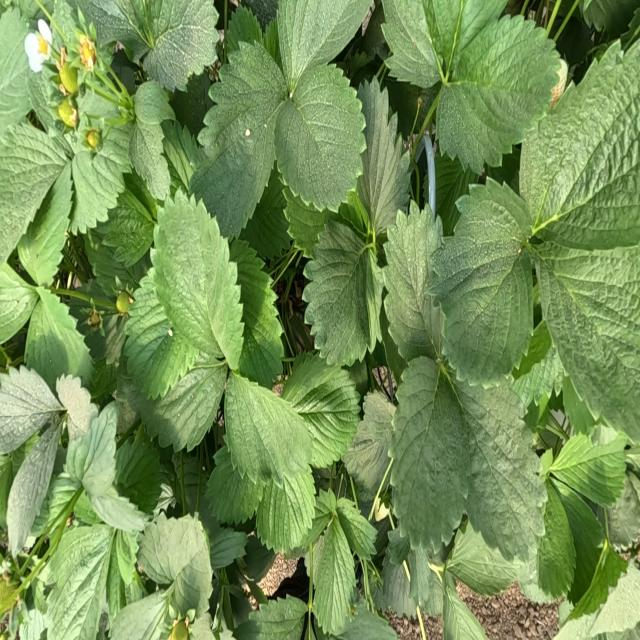Flowers: (25, 32, 50, 71)
Leaves: (520, 40, 640, 250), (533, 244, 640, 440), (437, 15, 566, 171), (434, 183, 532, 385), (453, 376, 547, 564), (195, 40, 285, 234), (151, 199, 243, 368), (392, 357, 471, 550), (276, 65, 367, 211), (225, 375, 312, 506), (381, 0, 504, 87), (0, 122, 68, 259), (303, 222, 370, 359), (384, 203, 442, 360), (124, 271, 196, 396), (276, 0, 371, 91), (138, 348, 226, 446), (282, 357, 360, 467), (355, 79, 410, 234), (554, 540, 640, 639), (44, 523, 116, 639), (228, 239, 283, 388), (6, 417, 62, 554), (138, 514, 211, 618), (25, 288, 91, 392), (18, 162, 73, 285), (145, 0, 219, 90), (343, 392, 394, 499), (447, 528, 523, 595), (1, 366, 59, 453), (552, 437, 626, 505), (313, 519, 356, 635), (560, 491, 604, 601), (257, 471, 315, 554), (92, 189, 153, 267), (72, 147, 128, 231), (512, 319, 564, 409), (536, 481, 576, 598), (240, 169, 291, 260), (66, 405, 116, 496), (115, 426, 164, 514), (204, 447, 258, 525), (73, 0, 147, 55), (0, 8, 31, 136), (436, 153, 478, 234), (129, 120, 170, 202), (110, 588, 172, 639), (234, 596, 307, 639), (0, 262, 38, 343), (283, 187, 326, 257), (199, 509, 247, 568), (57, 375, 98, 441), (443, 579, 486, 639), (336, 497, 376, 559), (337, 600, 397, 639), (605, 479, 639, 547), (410, 548, 442, 616), (383, 553, 415, 617), (226, 6, 262, 59)
Strawberries: (550, 59, 568, 108), (58, 100, 76, 127), (79, 38, 95, 68), (60, 65, 77, 92), (171, 620, 187, 639), (117, 292, 130, 312), (85, 131, 99, 149), (88, 312, 99, 326)
